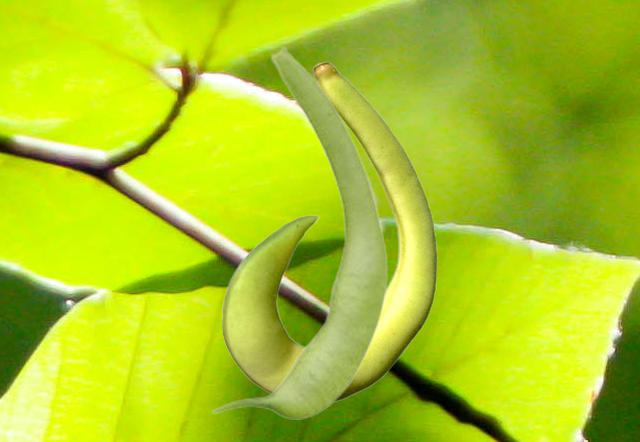french_bean: (221, 61, 437, 403), (210, 45, 388, 418)
